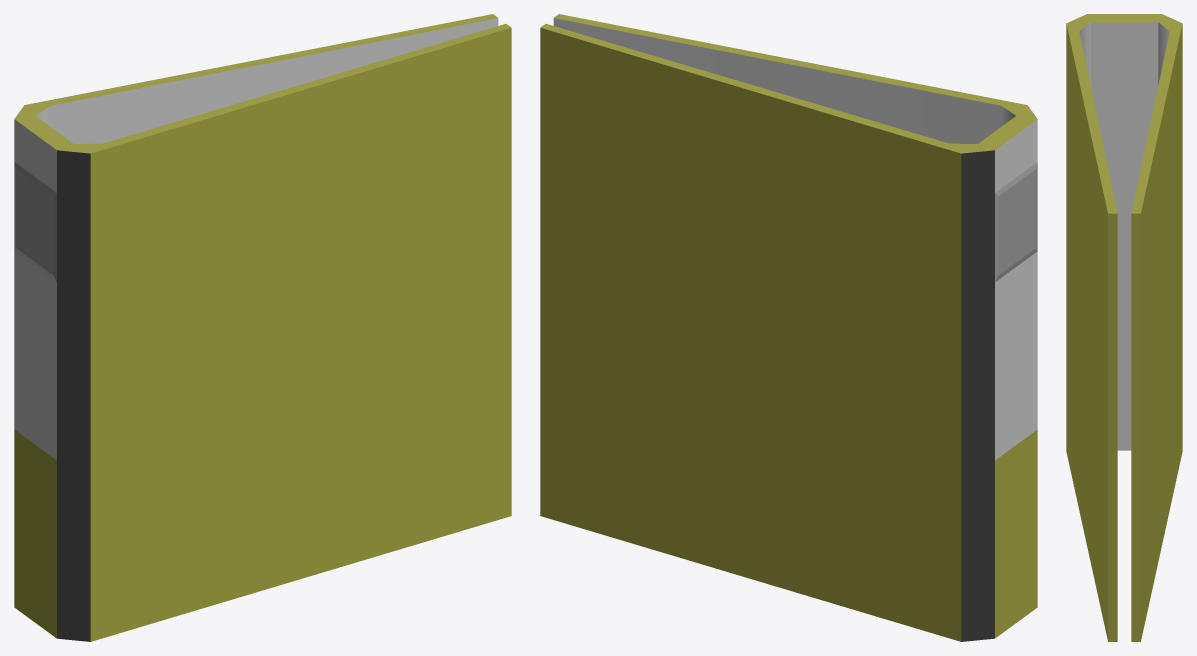
The model's file is YellowArchiveClosed.fbx.
3 renders of one model, left to right at view 1: azimuth 30°, elevation 25°; view 2: azimuth 150°, elevation 25°; view 3: azimuth 270°, elevation 25°, orthographic. The views are drawn at different scales.
Parts seen in each view (by area): view 1: pCube111; view 2: pCube111; view 3: pCube111.
Boxes of the visible parts, left/top/right/bottom form: pCube111: left=14, top=14, right=511, bottom=641; pCube111: left=540, top=14, right=1037, bottom=641; pCube111: left=1066, top=14, right=1182, bottom=641.
Size of the model in its own units: 1 by 1 by 0.2459.
